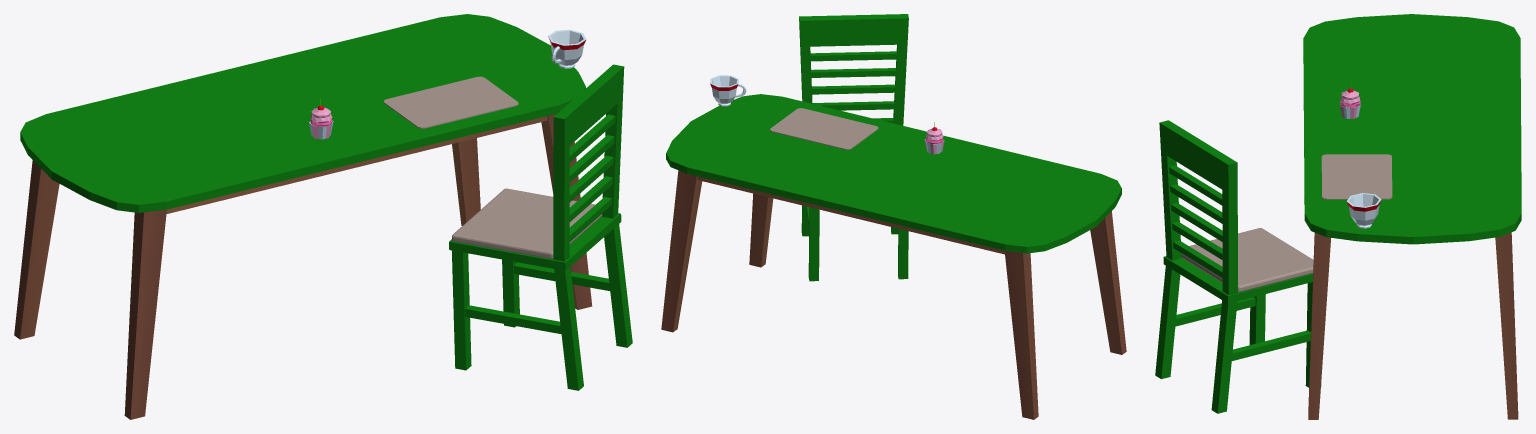
File: kitchen Table.fbx
The picture shows the model from 3 angles, left to right: view 1: azimuth 30°, elevation 25°; view 2: azimuth 150°, elevation 25°; view 3: azimuth 270°, elevation 25°; orthographic projection. The views are drawn at different scales.
Parts seen in each view (by area): view 1: Table, Chair, Carpet, Cup, Cupcake; view 2: Table, Chair, Carpet, Cup, Cupcake; view 3: Table, Chair, Carpet, Cup, Cupcake.
Part boxes in pixels (x1,y1,x2,y2): Table: [14, 14, 592, 419]; Chair: [449, 64, 632, 390]; Carpet: [383, 76, 518, 128]; Cup: [548, 29, 586, 68]; Cupcake: [309, 98, 333, 139]; Table: [661, 94, 1126, 419]; Chair: [799, 14, 908, 281]; Carpet: [770, 108, 878, 149]; Cup: [710, 75, 746, 106]; Cupcake: [924, 122, 944, 154]; Table: [1303, 14, 1521, 419]; Chair: [1155, 120, 1321, 413]; Carpet: [1321, 154, 1392, 199]; Cup: [1346, 193, 1381, 228]; Cupcake: [1340, 82, 1360, 118].
Size of the model in its own units: 228 by 120 by 158.
Materials: 1 (1 with a texture image).
